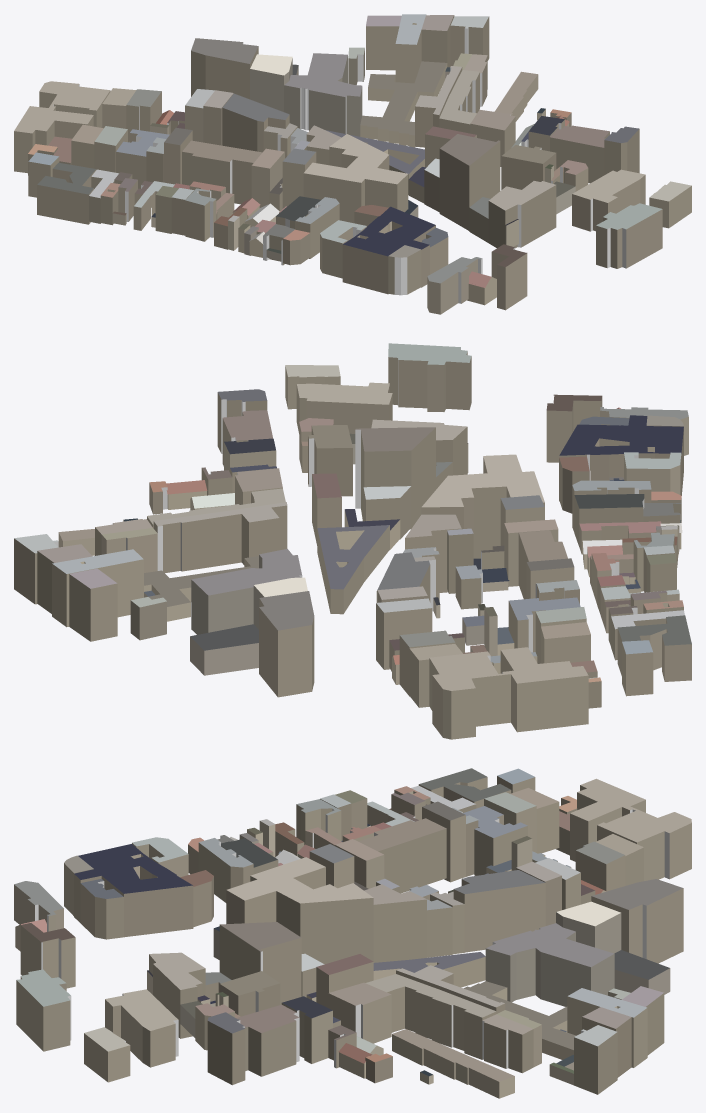
The picture shows the model from 3 angles, top to bottom: view 1: azimuth 30°, elevation 25°; view 2: azimuth 150°, elevation 25°; view 3: azimuth 270°, elevation 25°; orthographic projection. The views are drawn at different scales.
Visible parts, largest first — view 1: tuile; view 2: tuile; view 3: tuile.
Part boxes in pixels (bbox=[...]): tuile: bbox=[14, 14, 691, 314]; tuile: bbox=[14, 343, 691, 739]; tuile: bbox=[14, 768, 691, 1098].
Size of the model in its own units: 272 by 37.01 by 272.
